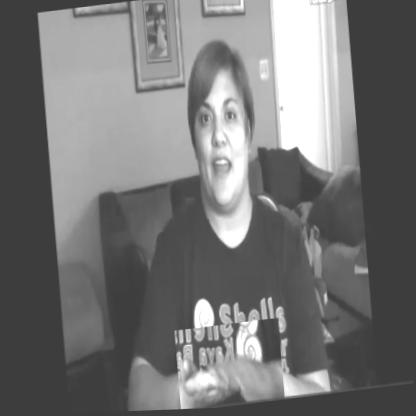NiceToMeetYou: (175, 320, 285, 411)
